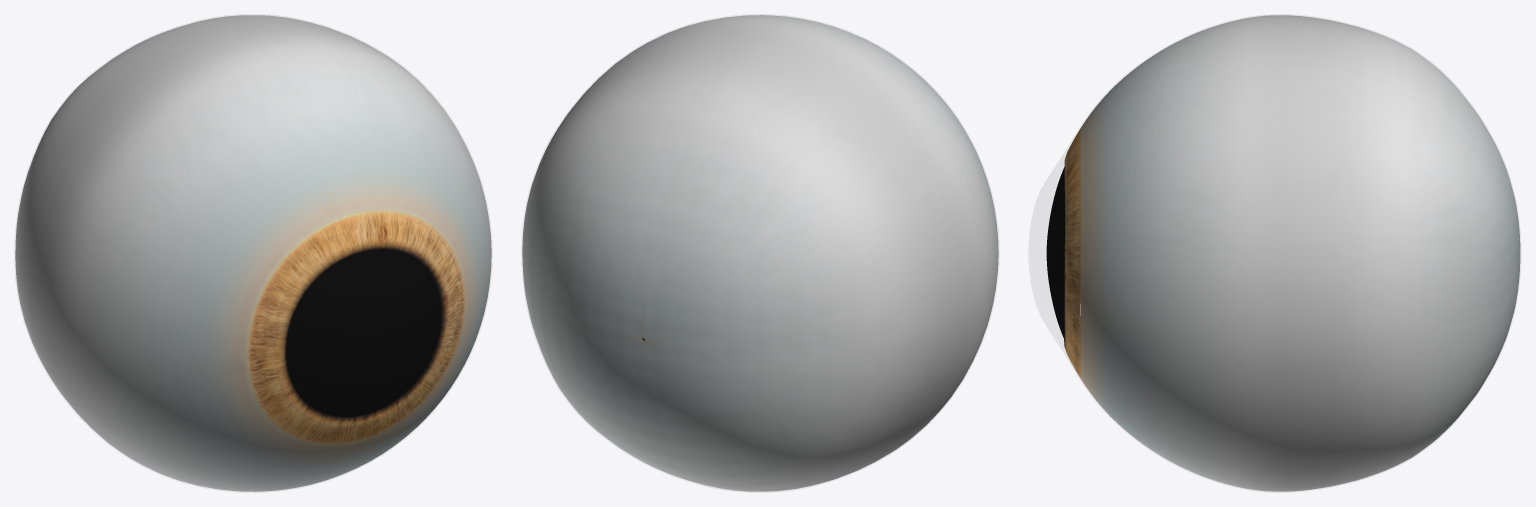
3 views of the same model, side by side, from view 1: azimuth 30°, elevation 25°; view 2: azimuth 150°, elevation 25°; view 3: azimuth 270°, elevation 25° (orthographic).
Parts seen in each view (by area): view 1: Sclera_Mesh_2, Pupil_Mesh_2, Iris_Mesh; view 2: Sclera_Mesh_2; view 3: Sclera_Mesh_2, Iris_Mesh, Pupil_Mesh_2.
Part boxes in pixels (x1,y1,x2,y2): Sclera_Mesh_2: [15, 15, 491, 491]; Pupil_Mesh_2: [286, 249, 441, 417]; Iris_Mesh: [247, 211, 464, 444]; Sclera_Mesh_2: [522, 15, 998, 491]; Sclera_Mesh_2: [1080, 15, 1520, 491]; Iris_Mesh: [1064, 128, 1081, 378]; Pupil_Mesh_2: [1046, 167, 1064, 339].
Size of the model in its own units: 0.3026 by 0.3029 by 0.3116.
4 materials, 3 textured.
